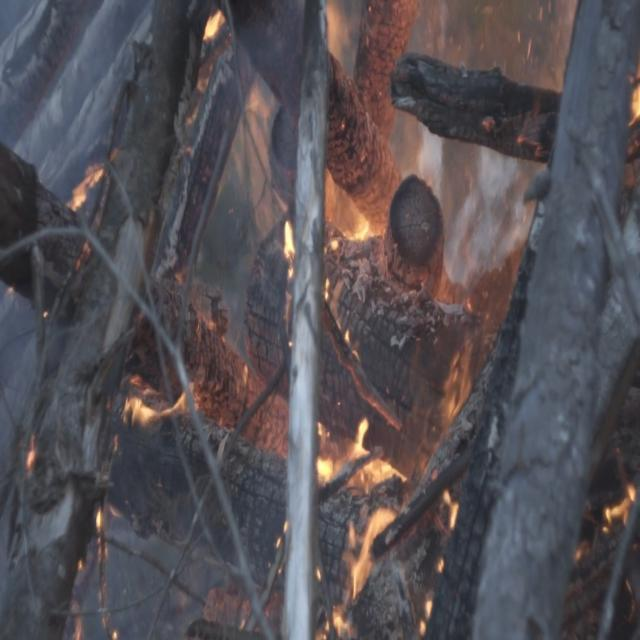Fire: (258, 419, 461, 640), (182, 1, 288, 214), (382, 1, 584, 93), (274, 216, 384, 368), (415, 270, 485, 420), (171, 264, 260, 376), (103, 370, 210, 462), (572, 486, 640, 598), (73, 509, 125, 640), (60, 158, 114, 276), (474, 106, 556, 166), (327, 147, 395, 219), (341, 370, 414, 418), (322, 2, 364, 83), (614, 56, 640, 150), (4, 279, 54, 324), (23, 428, 42, 478)
Smoke: (0, 0, 176, 202), (128, 470, 258, 640), (0, 329, 102, 479), (0, 484, 72, 640), (444, 167, 540, 271)
